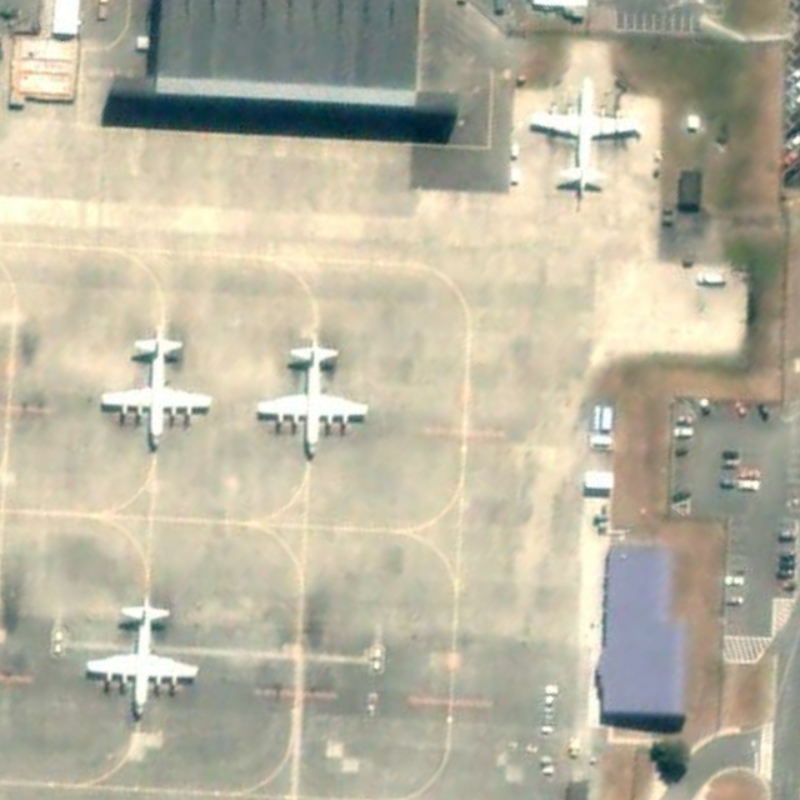A9: (79, 585, 207, 728), (251, 323, 377, 461), (94, 322, 220, 459), (521, 68, 644, 204)
